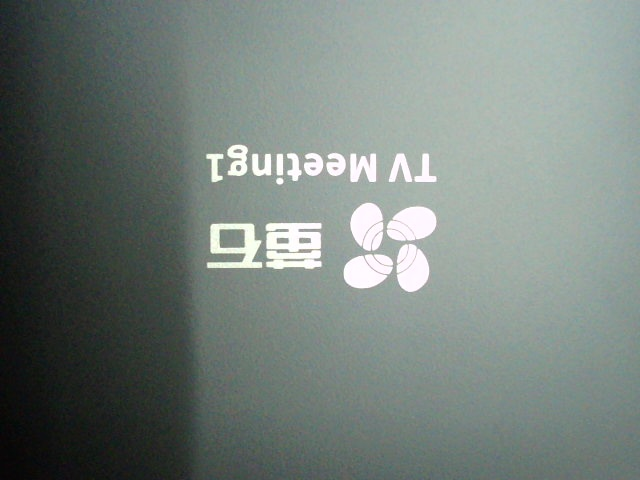BA_Yingshi: (202, 147, 445, 294)
